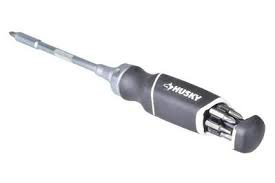Screwdriver: (8, 21, 275, 167)
